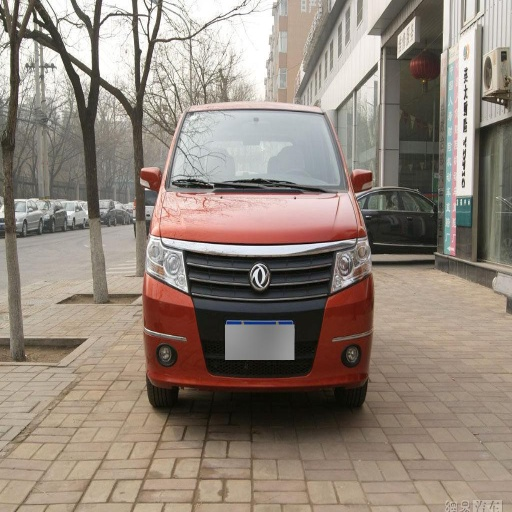front_bumper: (145, 240, 368, 389)
front_right_light: (148, 234, 188, 291)
hood: (157, 190, 362, 245)
